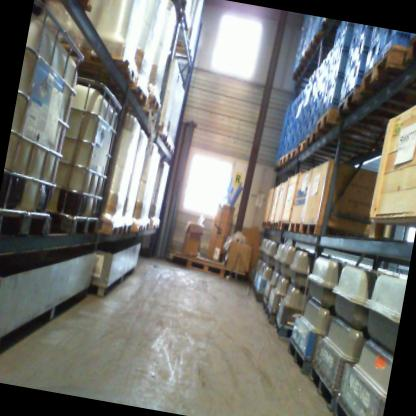pallet: (333, 82, 416, 132), (357, 40, 416, 105), (58, 42, 140, 84), (313, 105, 383, 144), (304, 129, 374, 160), (301, 362, 342, 411), (299, 219, 368, 247), (295, 138, 348, 163), (284, 338, 316, 376), (284, 144, 326, 169), (331, 399, 384, 416), (34, 0, 94, 15), (277, 149, 313, 173), (183, 259, 224, 277), (298, 45, 327, 69), (270, 312, 294, 340), (308, 28, 336, 52), (126, 83, 149, 105), (292, 63, 315, 83), (99, 220, 124, 237), (404, 32, 416, 65), (319, 17, 341, 32), (258, 290, 270, 317), (264, 305, 280, 324), (145, 93, 161, 112), (252, 286, 263, 305), (287, 221, 303, 234), (118, 221, 132, 235), (130, 222, 143, 233), (149, 219, 160, 230), (141, 220, 150, 231), (271, 220, 280, 230), (163, 141, 172, 150), (159, 133, 168, 142), (261, 219, 268, 230), (273, 160, 279, 172), (169, 148, 174, 154)
small_load_carrier: (363, 26, 385, 65), (351, 29, 373, 64), (350, 55, 367, 93), (381, 28, 409, 51), (327, 75, 343, 109), (339, 68, 353, 102), (336, 29, 353, 56), (343, 45, 357, 76), (332, 51, 347, 76), (332, 20, 344, 50), (349, 24, 360, 53), (357, 24, 374, 42), (371, 26, 384, 42), (341, 21, 354, 36), (302, 115, 311, 135), (308, 111, 317, 130), (311, 76, 319, 97), (329, 48, 337, 69), (315, 104, 323, 124), (320, 76, 327, 98), (311, 97, 319, 116), (321, 97, 329, 115), (317, 91, 325, 109), (289, 131, 297, 148), (302, 96, 310, 113), (306, 102, 314, 119), (325, 73, 332, 92), (327, 62, 334, 80), (291, 121, 299, 136), (309, 89, 317, 104), (294, 108, 301, 125), (299, 101, 306, 118), (300, 109, 307, 126), (298, 122, 305, 139), (323, 87, 330, 104), (314, 85, 321, 101), (282, 131, 289, 146), (289, 115, 296, 130), (287, 125, 293, 142), (296, 116, 302, 132), (285, 137, 291, 152), (294, 128, 300, 142), (280, 144, 286, 156), (285, 121, 291, 133)
